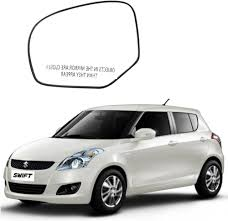Swift: (2, 99, 224, 212)
